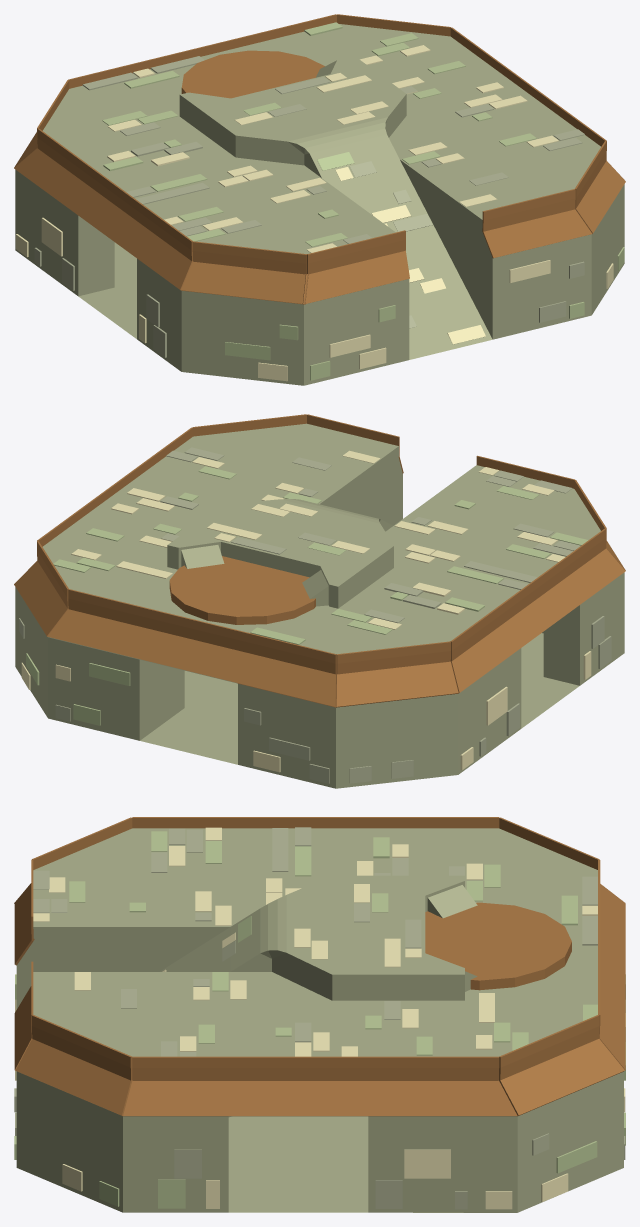
The model's file is Forte nuovo.fbx.
The picture shows the model from 3 angles, top to bottom: view 1: azimuth 30°, elevation 25°; view 2: azimuth 150°, elevation 25°; view 3: azimuth 270°, elevation 25°; orthographic projection. The views are drawn at different scales.
Parts seen in each view (by area): view 1: Forte; view 2: Forte; view 3: Forte.
Boxes of the visible parts, <box> form: Forte: <box>14,14,625,385</box>; Forte: <box>14,414,625,788</box>; Forte: <box>14,817,625,1212</box>.
Size of the model in its own units: 18.84 by 18.86 by 5.62.
